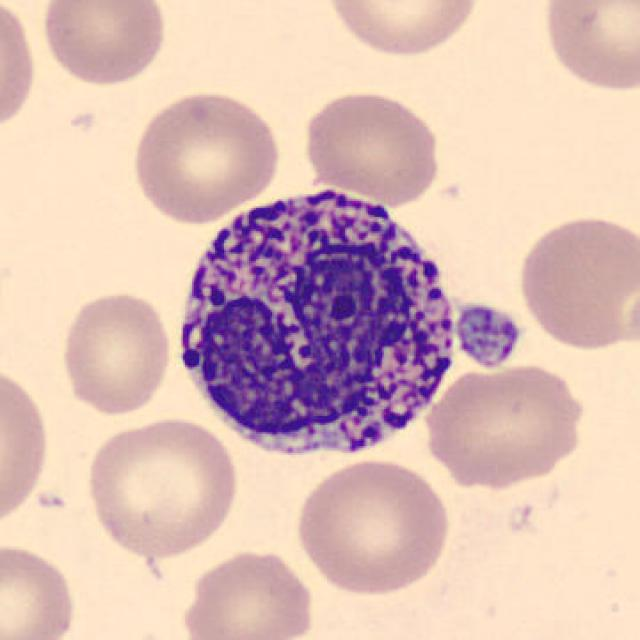Basophil: (162, 168, 469, 474)
Platelets: (452, 298, 524, 372)
RBC: (82, 414, 244, 561), (290, 455, 453, 598), (126, 84, 284, 226), (422, 360, 590, 490), (512, 210, 636, 352), (298, 86, 444, 205), (57, 286, 174, 418), (178, 545, 318, 640), (37, 0, 171, 90), (320, 0, 485, 60), (537, 0, 638, 95), (0, 360, 55, 532), (0, 539, 80, 640), (0, 0, 41, 138)
